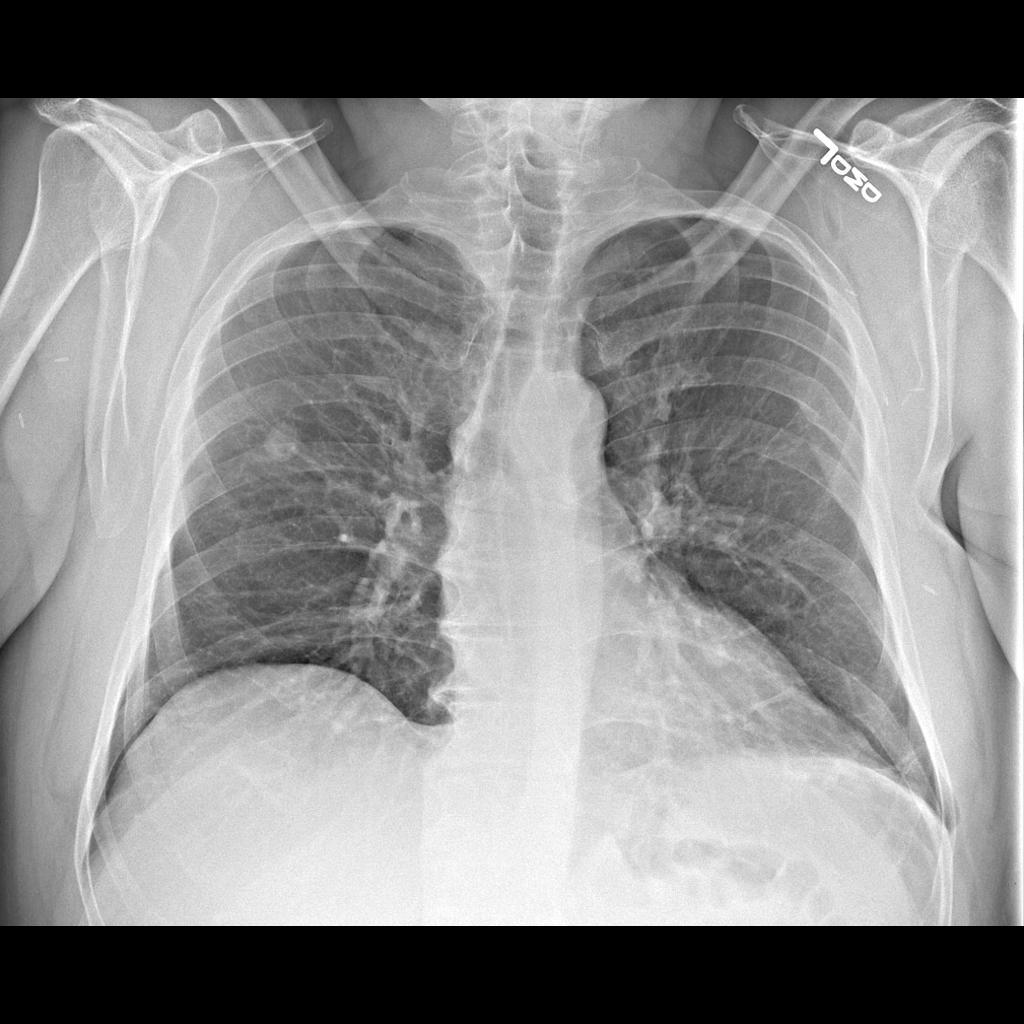Nodule: (264, 418, 305, 467)
